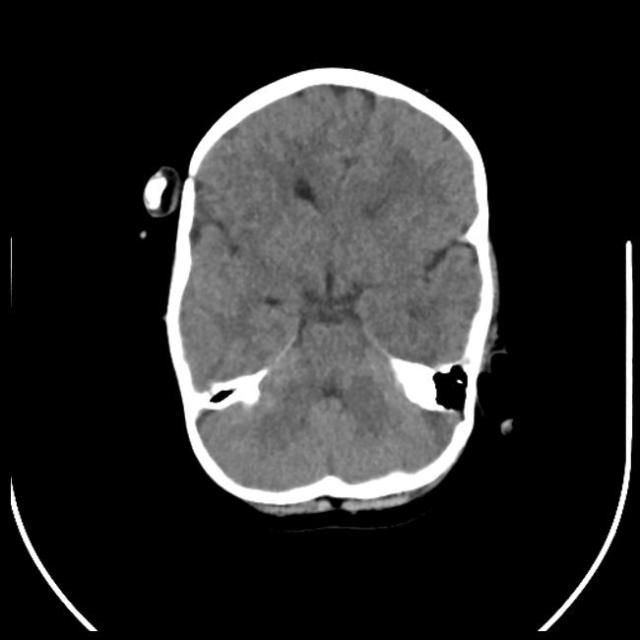lesion: (202, 207, 278, 303)
